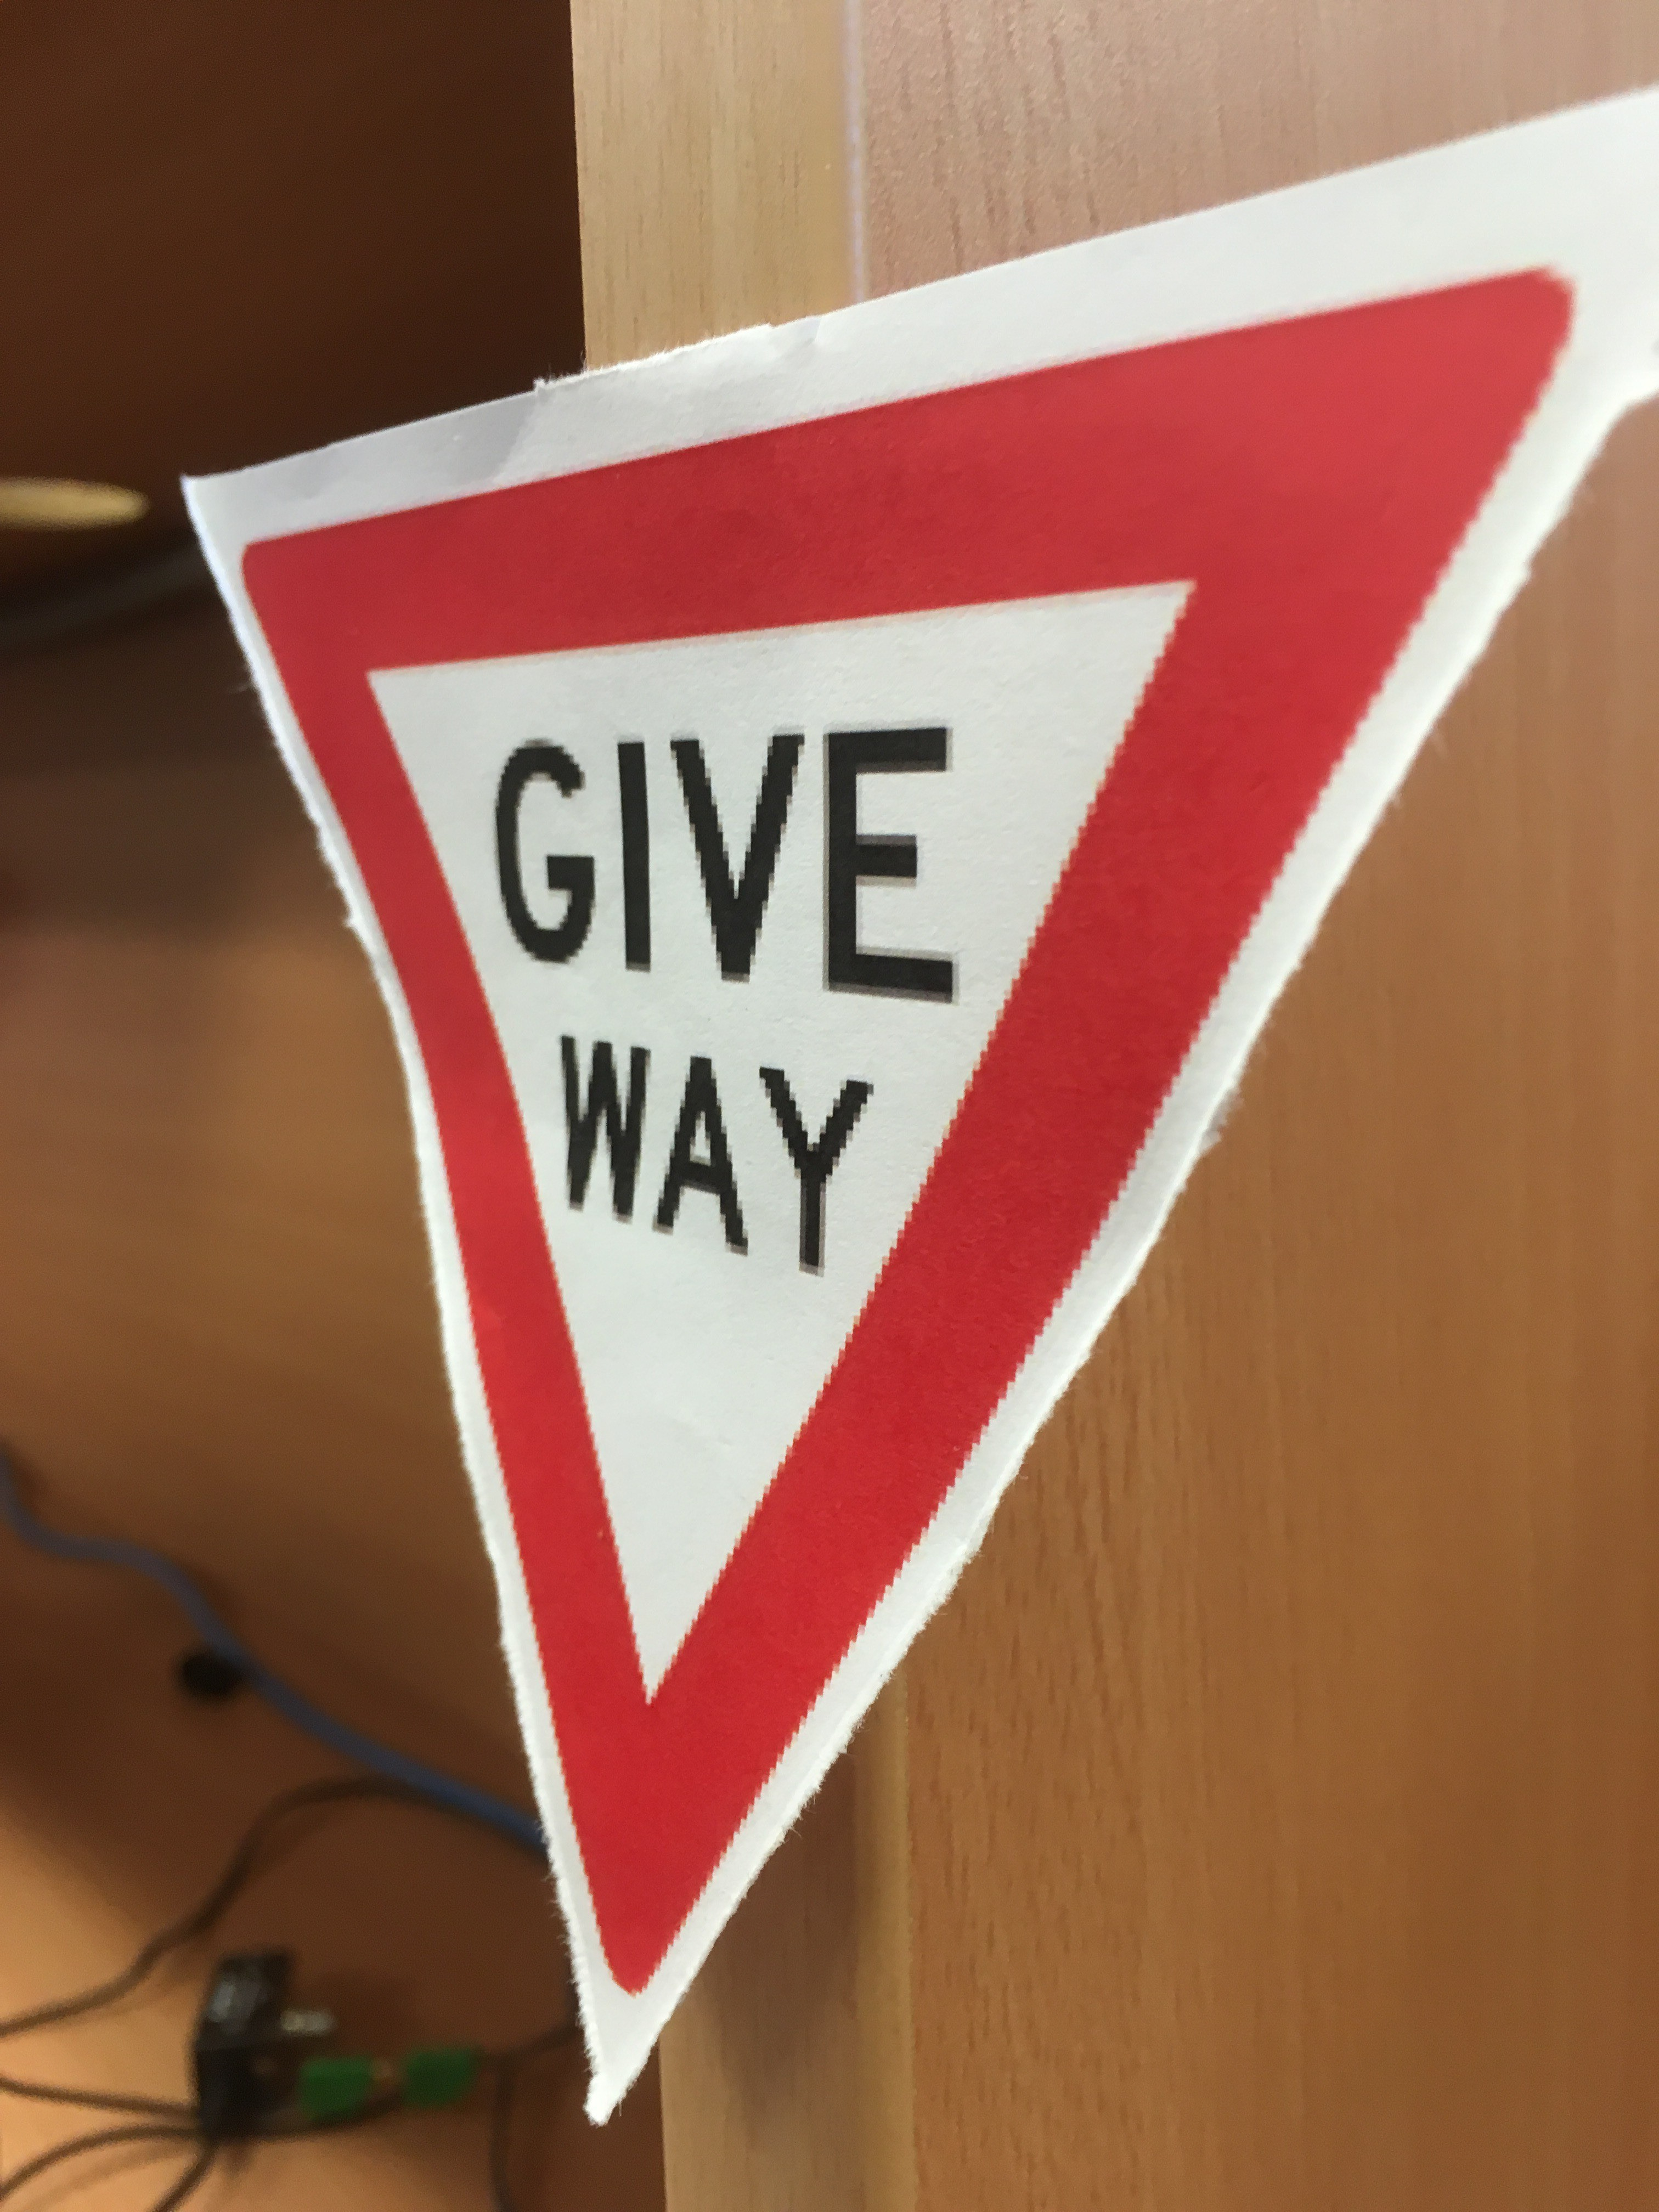giveway: (227, 495, 1523, 1970), (477, 408, 1098, 1900), (340, 589, 847, 1977), (446, 712, 1035, 1298)
